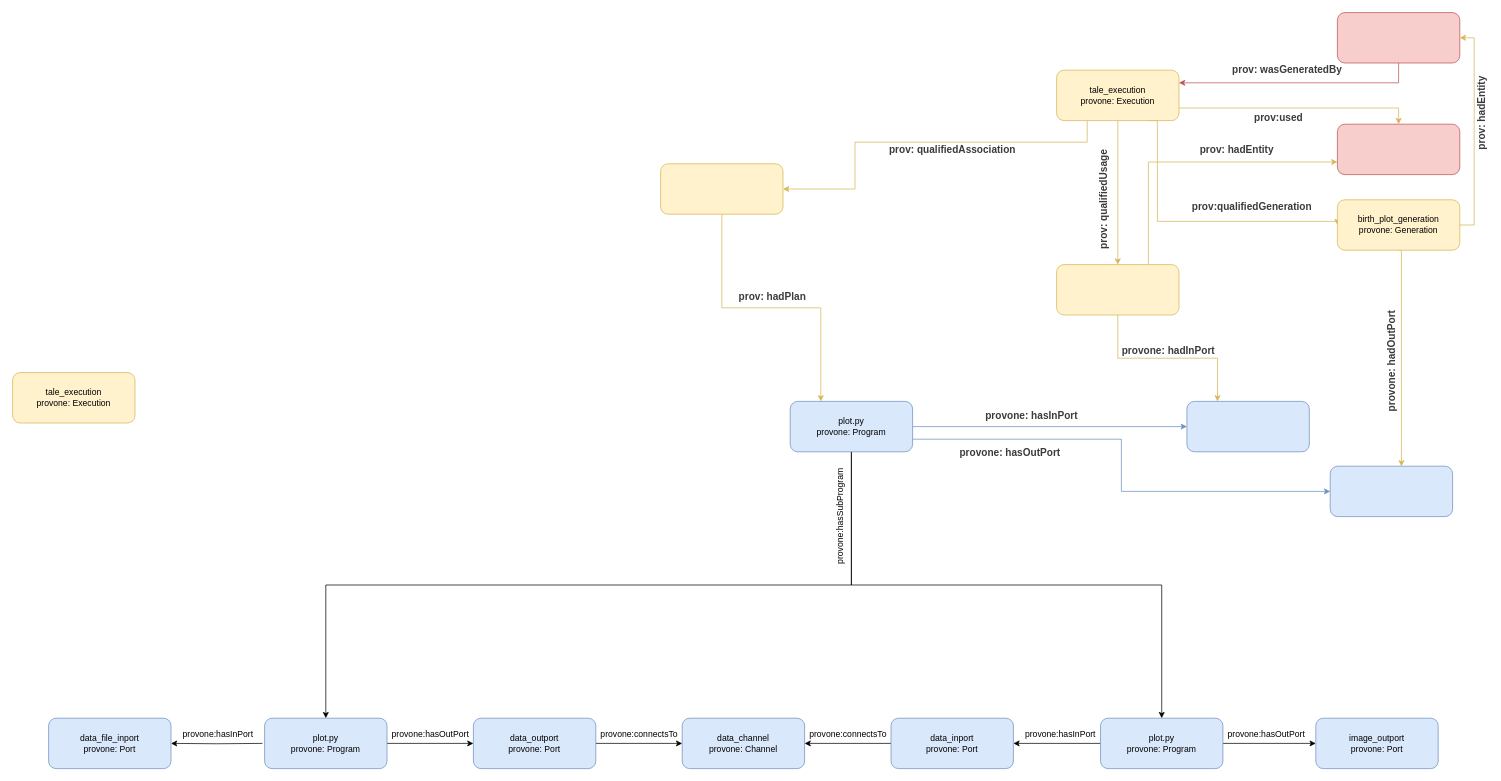
The diagram is 1501 pixels wide and 781 high, and some of its shapes have lost their labels. Each missing label, with the box of its shape:
associated_plan provone: Association: (660, 163, 783, 214)
birth_data_port provone: Port: (1186, 401, 1309, 452)
birth_data_usage provone: Usage: (1056, 264, 1179, 315)
daily-total-female-births-CA.csv provone: Data: (1337, 123, 1460, 175)
female-daily-births.png provone: Data: (1337, 12, 1460, 63)
plot_output_port provone: Port: (1329, 465, 1453, 517)
